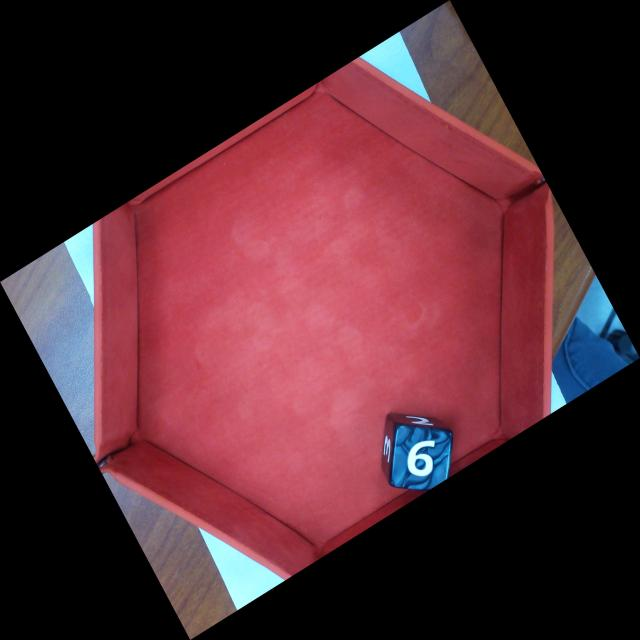dice: (395, 427, 450, 489)
